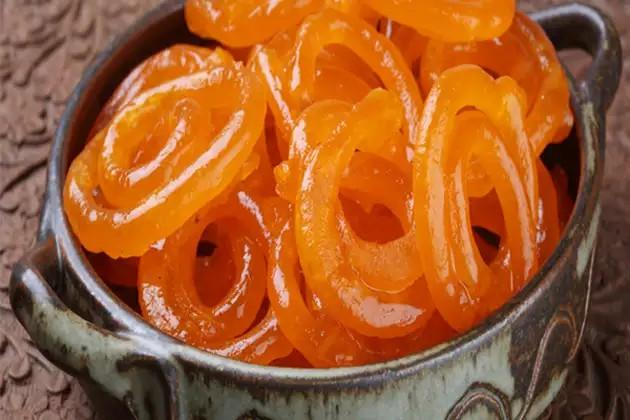Jalebi: (64, 0, 572, 370)
